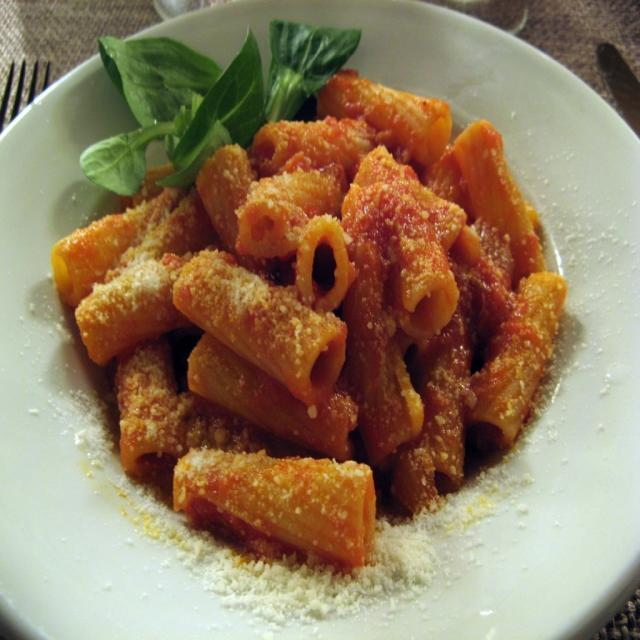Pasta: (58, 49, 586, 584)
